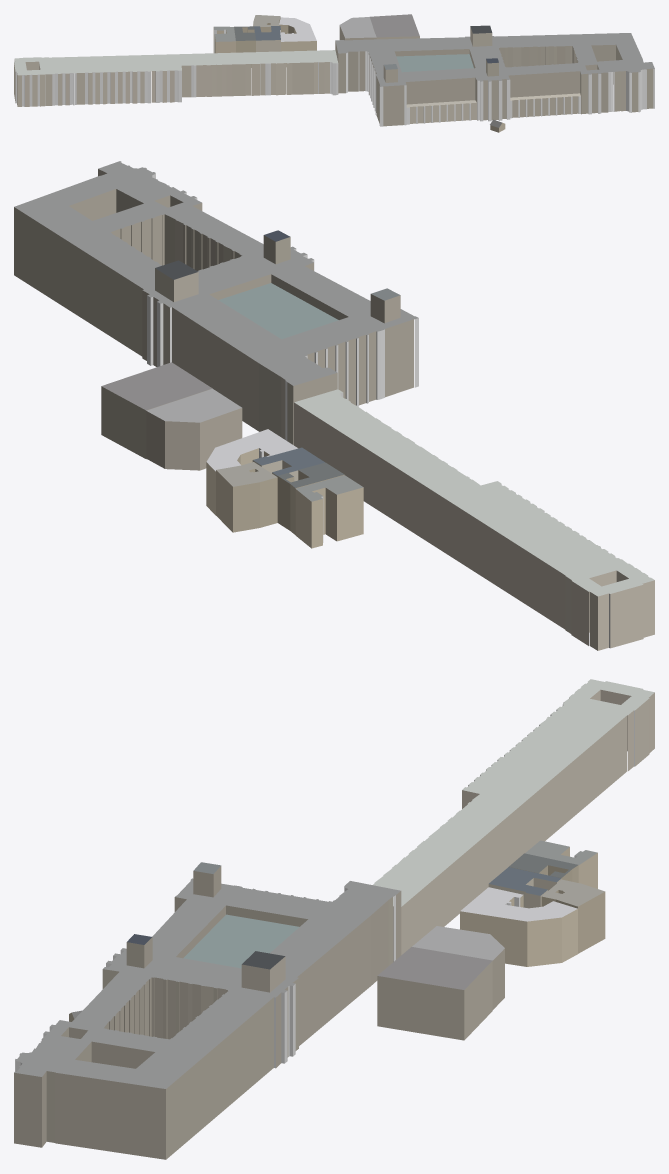
3 renders of one model, top to bottom at view 1: azimuth 30°, elevation 25°; view 2: azimuth 150°, elevation 25°; view 3: azimuth 270°, elevation 25°, orthographic. The views are drawn at different scales.
Visible parts, largest first — view 1: tuile; view 2: tuile; view 3: tuile.
Part boxes in pixels (x1,y1,x2,y2): tuile: (14,14,654,132); tuile: (14,161,654,650); tuile: (14,679,654,1159).
Bounding box in the file's own units: 429 × 46.54 × 272.
